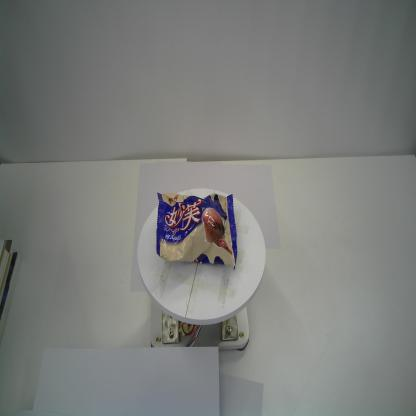Dessert: (154, 191, 238, 272)
